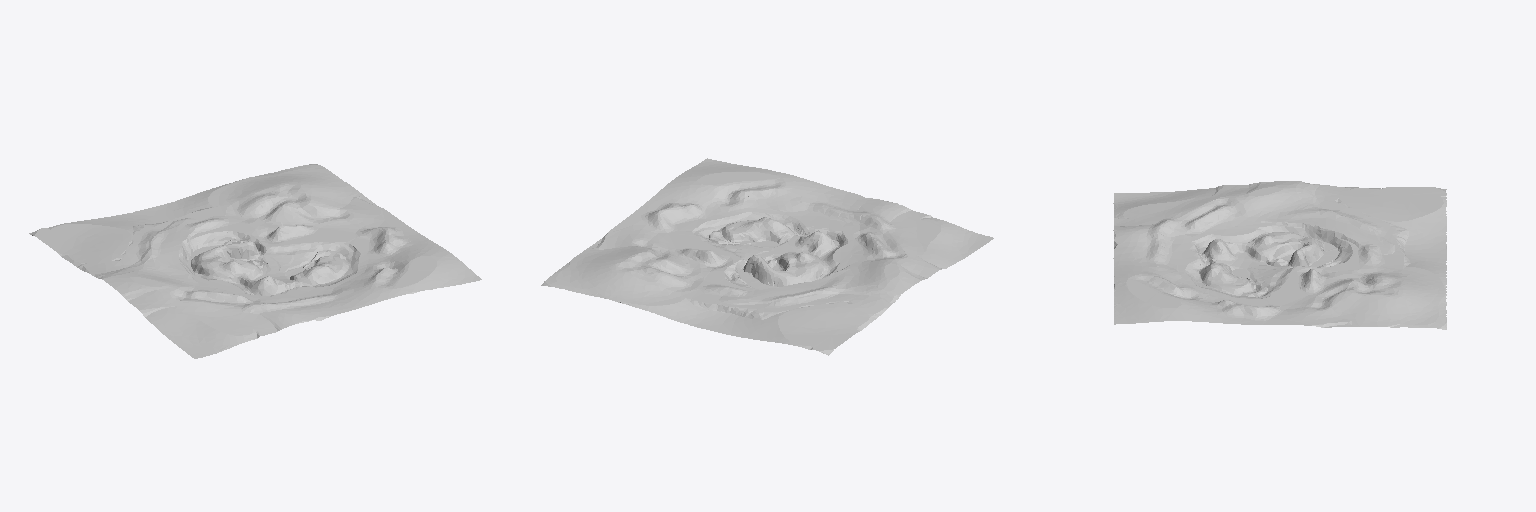
Rendered from Terrain_09_LP.obj.
The picture shows the model from 3 angles: view 1: azimuth 30°, elevation 25°; view 2: azimuth 150°, elevation 25°; view 3: azimuth 270°, elevation 25°; orthographic projection.
Visible parts, largest first — view 1: Terrain_09; view 2: Terrain_09; view 3: Terrain_09.
Boxes of the visible parts, x1=… form: Terrain_09: x1=29, y1=164, x2=481, y2=358; Terrain_09: x1=541, y1=158, x2=993, y2=355; Terrain_09: x1=1113, y1=181, x2=1446, y2=329.
Size of the model in its own units: 200 by 10.12 by 201.